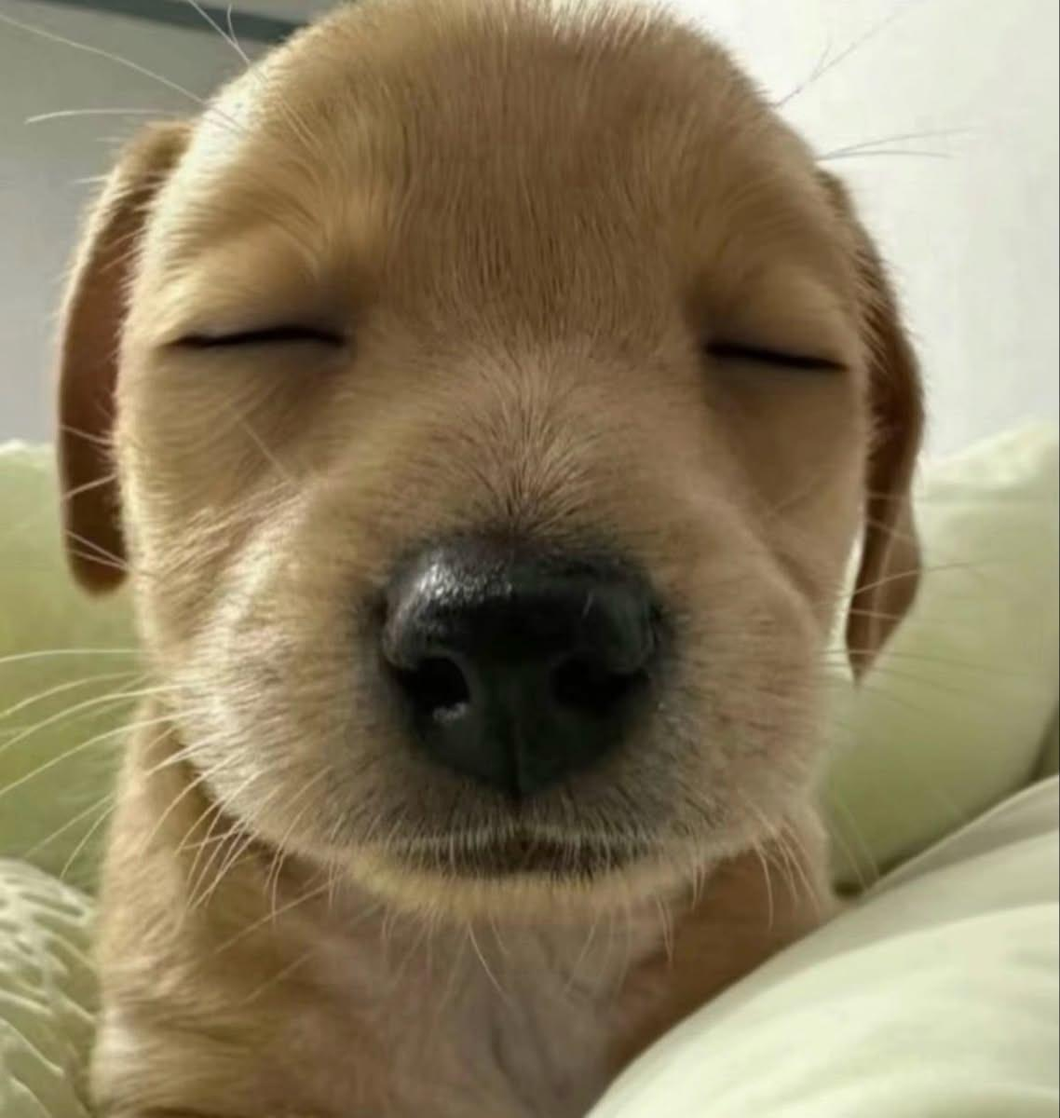puppy-dog: (49, 0, 936, 1118)
